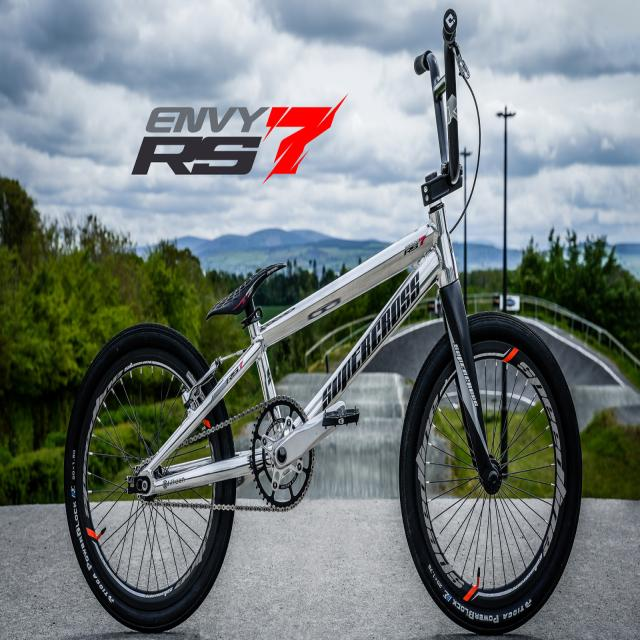bmx-bike: (63, 7, 585, 638)
